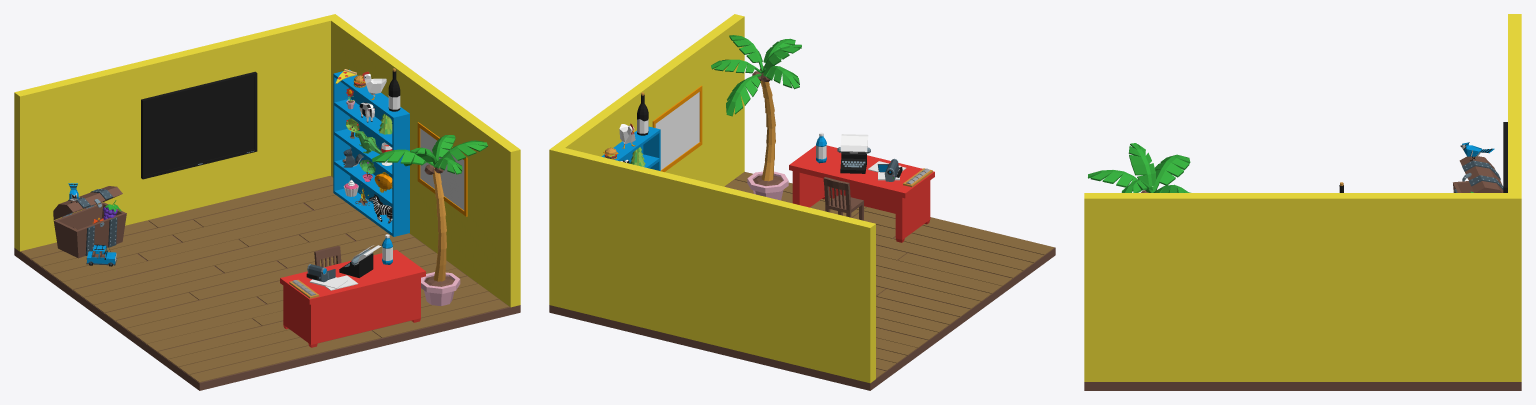
Rendered from myroom.glb.
The picture shows the model from 3 angles, left to right: view 1: azimuth 30°, elevation 25°; view 2: azimuth 150°, elevation 25°; view 3: azimuth 270°, elevation 25°; orthographic projection. The views are drawn at different scales.
Parts seen in each view (by area): view 1: Plane, Cube.024, Cube_Cube.001, Cube.001_Cube.002, Cube.002_Cube.003, palm_tree_01, Cube.004_Cube, Plane.002_Plane.009, Cube.005, flower_01_Cube.000, Cube.003_Cube.006, car_01_Cube.004 (+1 smaller); view 2: Plane, Cube.024, Cube.001_Cube.002, palm_tree_01, Plane.002_Plane.009, Cube.002_Cube.003, Cube.003_Cube.006, Plane.004_Plane.010, flower_01_Cube.000; view 3: Plane, palm_tree_01, Cube.005.
Part boxes in pixels (x1,y1,x2,y2): Plane: (14,14,520,390); Cube.024: (20,176,508,382); Cube_Cube.001: (141,71,257,179); Cube.001_Cube.002: (280,249,425,347); Cube.002_Cube.003: (333,69,409,236); palm_tree_01: (372,135,487,281); Cube.004_Cube: (53,202,126,258); Plane.002_Plane.009: (417,122,467,216); Cube.005: (53,186,122,219); flower_01_Cube.000: (421,272,460,305); Cube.003_Cube.006: (339,245,381,277); car_01_Cube.004: (86,244,116,266); Plane: (549,14,1055,390); Cube.024: (724,172,1054,378); Cube.001_Cube.002: (789,145,934,242); palm_tree_01: (711,35,801,181); Plane.002_Plane.009: (652,85,702,171); Cube.002_Cube.003: (601,126,660,170); Cube.003_Cube.006: (837,134,870,173); Plane.004_Plane.010: (823,177,863,220); flower_01_Cube.000: (747,171,788,200); Plane: (1084,14,1521,390); palm_tree_01: (1088,143,1190,192); Cube.005: (1459,156,1503,192).
Bounding box in the file's own units: 77.45 × 38.72 × 77.45.
